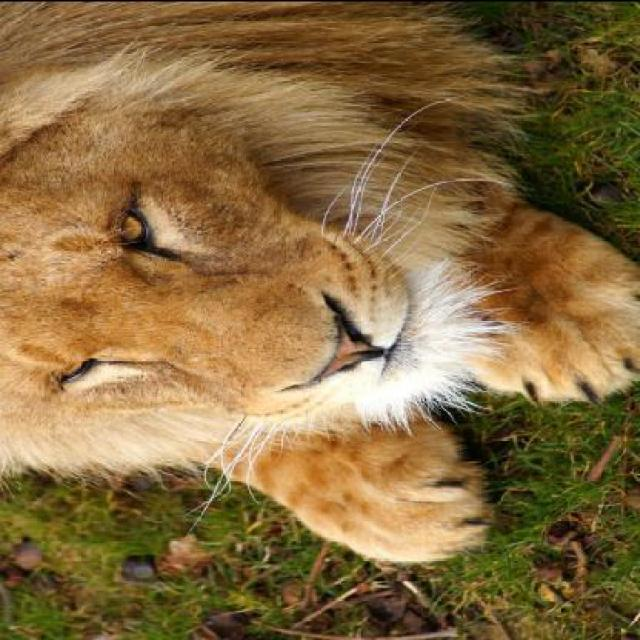Lion: (0, 1, 634, 592)
